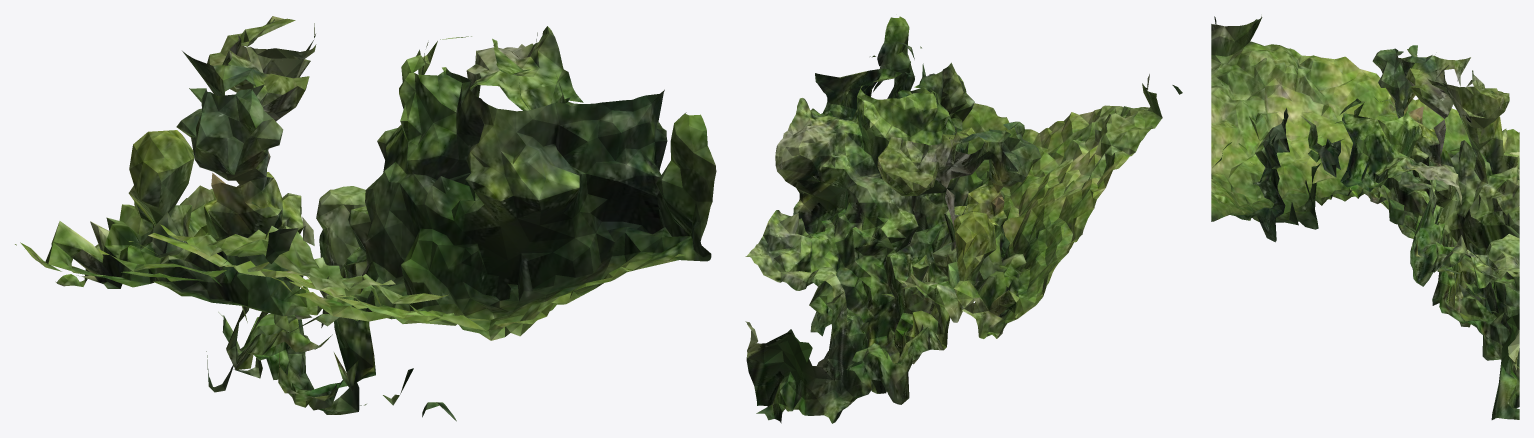
3 renders of one model, left to right at view 1: azimuth 30°, elevation 25°; view 2: azimuth 150°, elevation 25°; view 3: azimuth 270°, elevation 25°, orthographic. The views are drawn at different scales.
Size of the model in its own units: 26.11 by 26.11 by 26.11.
Materials: 6 (6 with a texture image).
